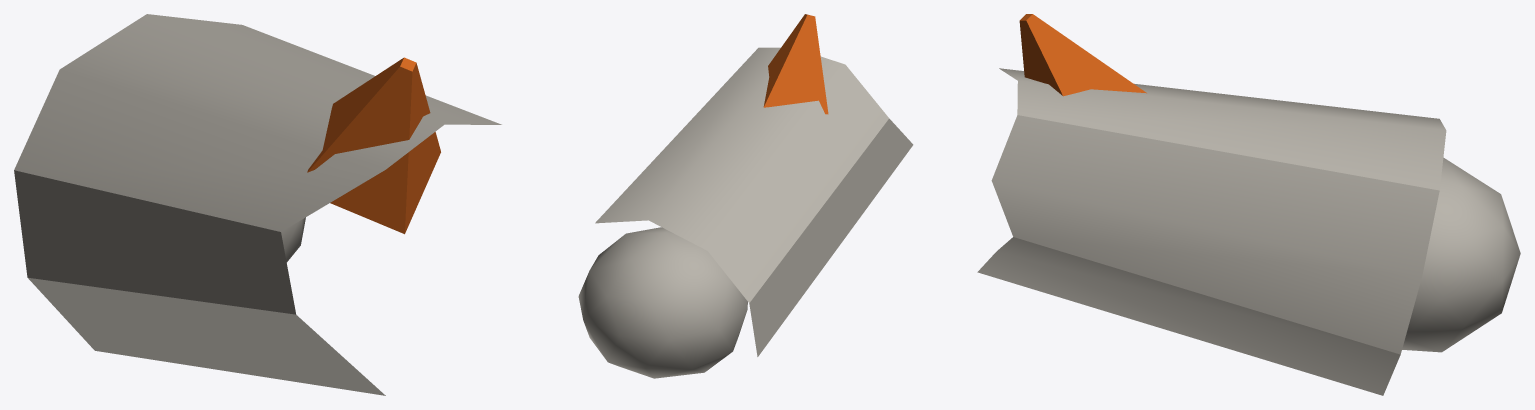
The model's file is hull_broken.glb.
3 renders of one model, left to right at view 1: azimuth 30°, elevation 25°; view 2: azimuth 150°, elevation 25°; view 3: azimuth 270°, elevation 25°, orthographic. The views are drawn at different scales.
Parts seen in each view (by area): view 1: hull_broken; view 2: hull_broken; view 3: hull_broken.
Part boxes in pixels (x1,y1,x2,y2): hull_broken: (14,14,501,395); hull_broken: (578,14,913,378); hull_broken: (977,14,1520,395).
Size of the model in its own units: 3.61 by 5.38 by 7.61.
